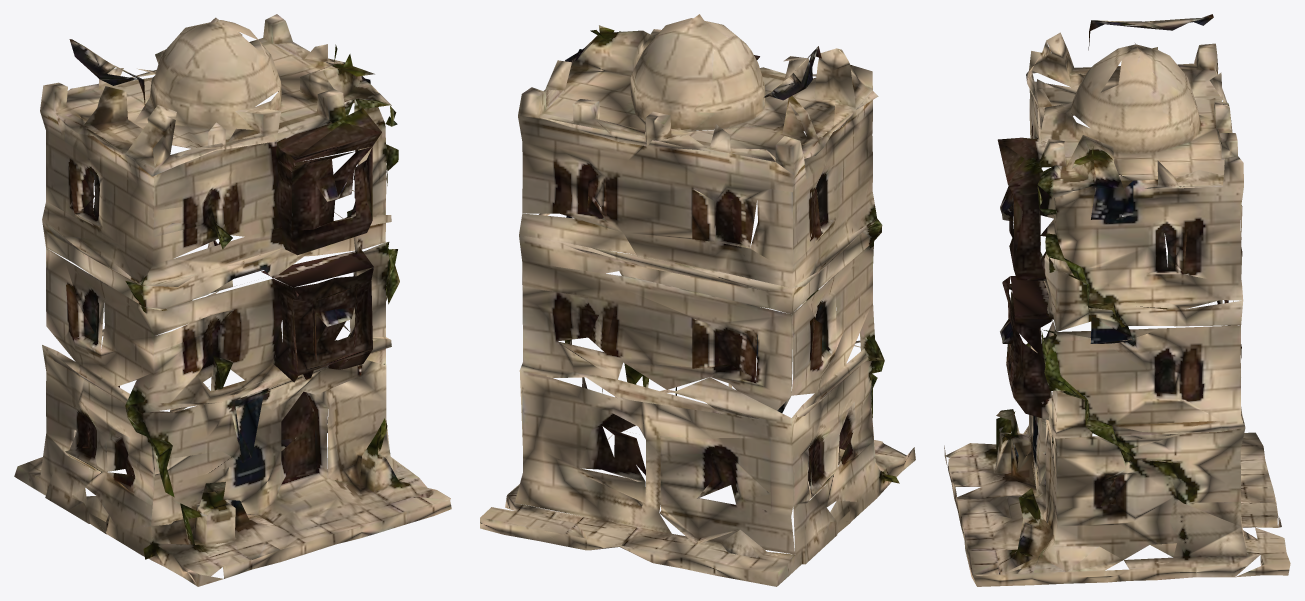
Rendered from house-1-lod2.glb.
3 views of the same model, side by side, from view 1: azimuth 30°, elevation 25°; view 2: azimuth 150°, elevation 25°; view 3: azimuth 270°, elevation 25° (orthographic). The views are drawn at different scales.
Bounding box in the file's own units: 5.68 × 8.7 × 5.81.
Materials: 1 (1 with a texture image).
